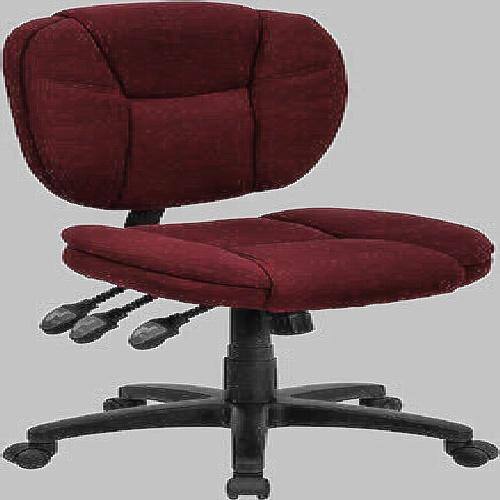chair: (11, 19, 481, 470)
